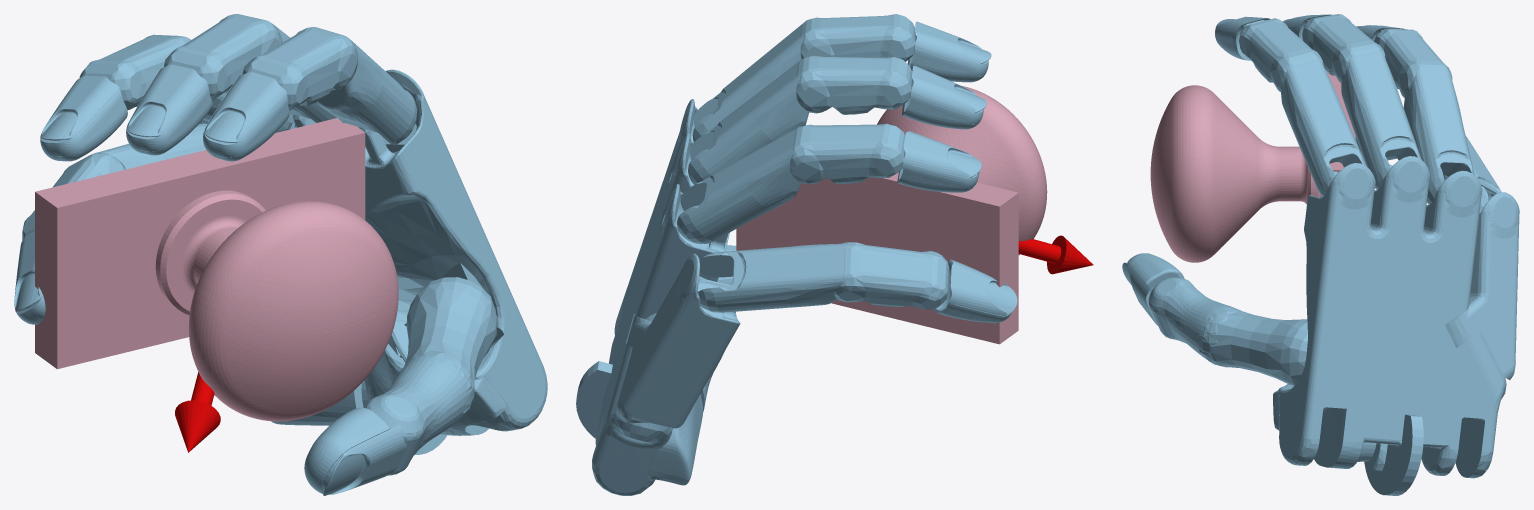
3 renders of one model, left to right at view 1: azimuth 30°, elevation 25°; view 2: azimuth 150°, elevation 25°; view 3: azimuth 270°, elevation 25°, orthographic. The views are drawn at different scales.
Parts seen in each view (by area): view 1: world, door_knob.stl; view 2: world, door_knob.stl; view 3: world, door_knob.stl.
Part boxes in pixels (left/top/right/bottom): world: left=14, top=14, right=547, bottom=495; door_knob.stl: left=35, top=118, right=398, bottom=421; world: left=576, top=14, right=1093, bottom=495; door_knob.stl: left=736, top=86, right=1047, bottom=344; world: left=1122, top=14, right=1519, bottom=495; door_knob.stl: left=1150, top=71, right=1355, bottom=262.
Size of the model in its own units: 0.1612 by 0.1561 by 0.1455.
